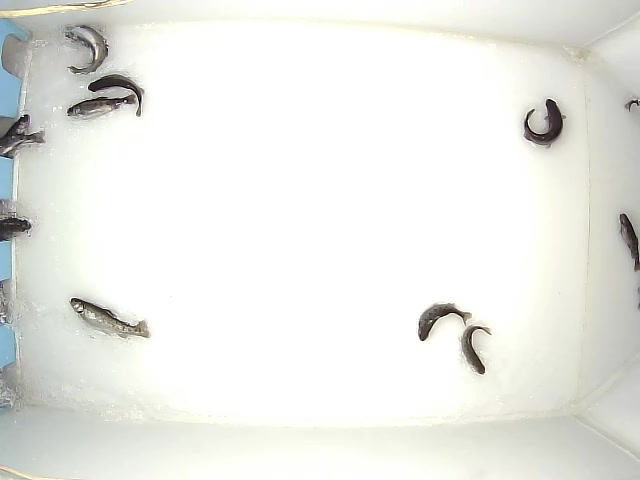fish: (69, 297, 151, 339), (88, 74, 145, 117), (65, 25, 108, 75), (524, 99, 566, 148), (418, 303, 472, 341), (67, 93, 136, 120), (461, 325, 492, 375), (1, 114, 30, 159), (619, 213, 640, 272), (1, 130, 46, 156)
